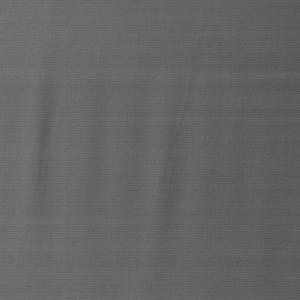Wrinkle: (137, 90, 199, 300), (19, 59, 69, 264)
